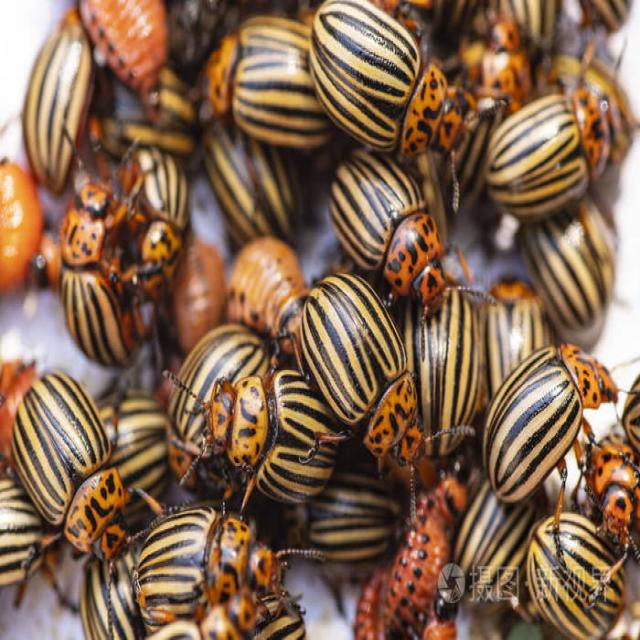ShuCaiHuaBanChong-Grown-: (301, 272, 427, 467), (11, 374, 132, 569), (312, 0, 456, 145), (333, 135, 452, 308), (481, 338, 604, 499), (198, 362, 344, 497), (49, 184, 144, 372), (480, 86, 620, 212), (131, 512, 287, 617)
